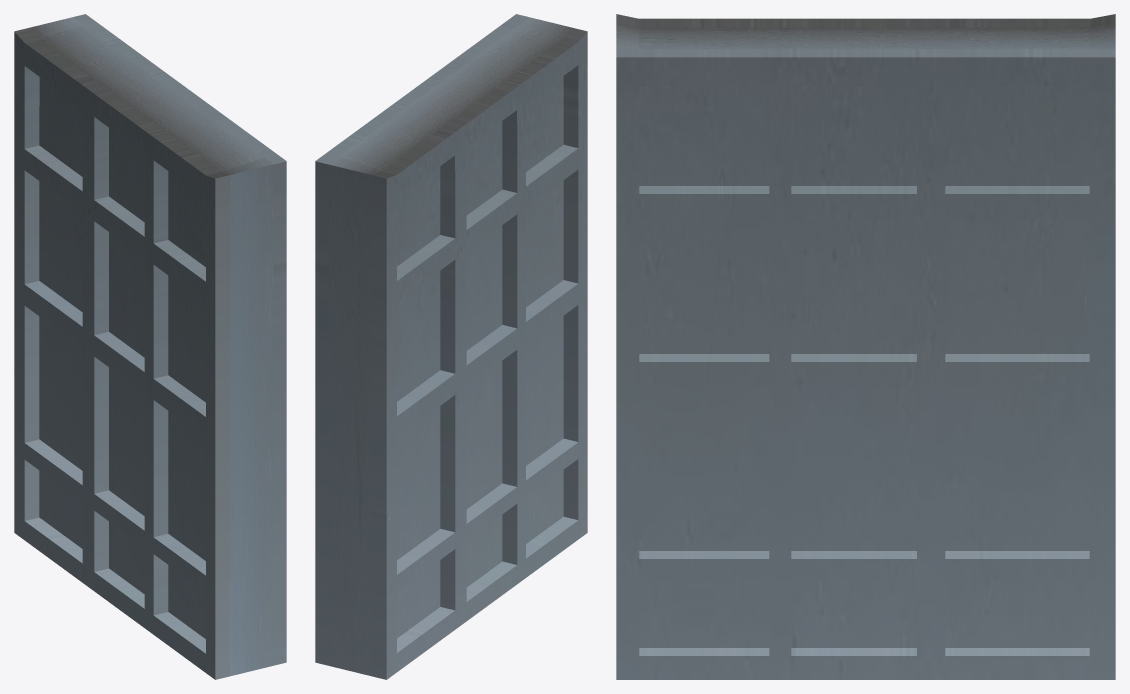
File: fenetre.fbx
The picture shows the model from 3 angles, left to right: view 1: azimuth 30°, elevation 25°; view 2: azimuth 150°, elevation 25°; view 3: azimuth 270°, elevation 25°; orthographic projection. The views are drawn at different scales.
Visible parts, largest first — view 1: Cube.009; view 2: Cube.009; view 3: Cube.009.
Boxes of the visible parts, <box> form: Cube.009: <box>14,14,286,679</box>; Cube.009: <box>315,14,587,679</box>; Cube.009: <box>616,14,1115,679</box>.
Size of the model in its own units: 164 by 1100 by 800.
1 material, 1 textured.
